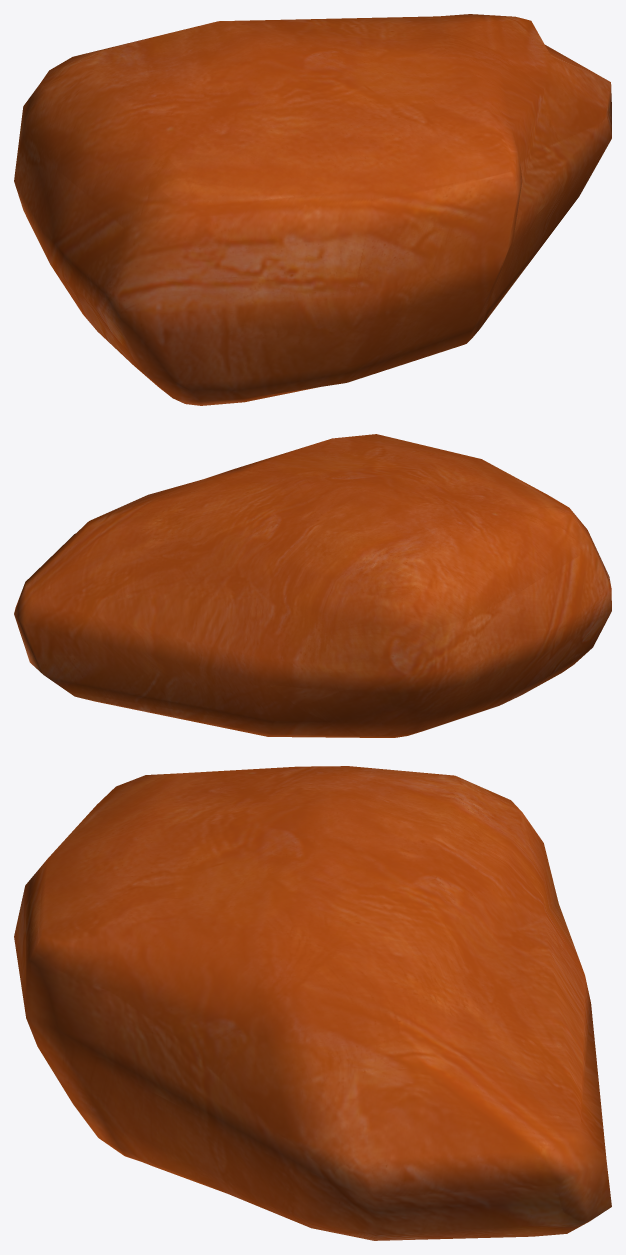
Rendered from Pedra1.fbx.
The picture shows the model from 3 angles, top to bottom: view 1: azimuth 30°, elevation 25°; view 2: azimuth 150°, elevation 25°; view 3: azimuth 270°, elevation 25°; orthographic projection. The views are drawn at different scales.
Visible parts, largest first — view 1: Pedra3; view 2: Pedra3; view 3: Pedra3.
Boxes of the visible parts, left/top/right/bottom form: Pedra3: left=14, top=14, right=611, bottom=405; Pedra3: left=14, top=434, right=611, bottom=737; Pedra3: left=14, top=766, right=611, bottom=1240.
Size of the model in its own units: 1.94 by 0.8143 by 1.52.
